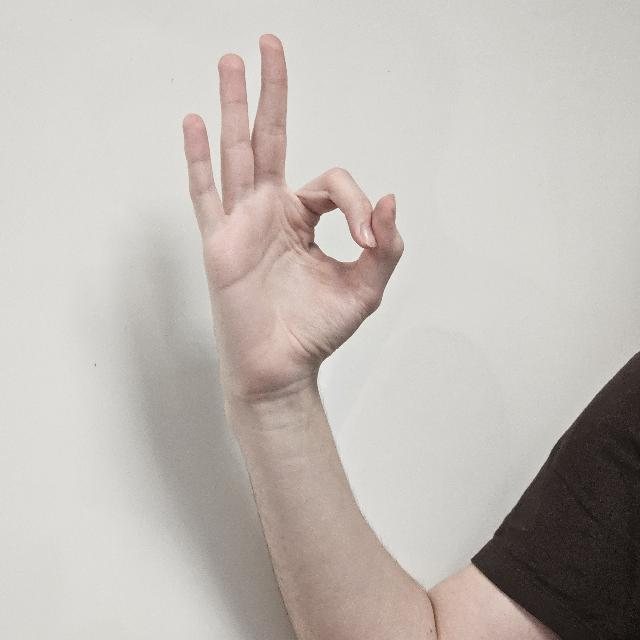Bolinha: (184, 31, 402, 378)
